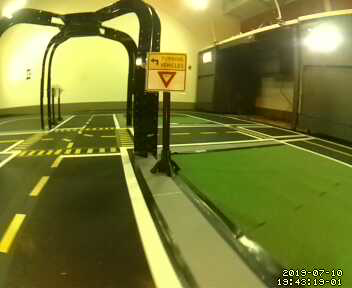Turn Yield: (146, 51, 186, 92)
